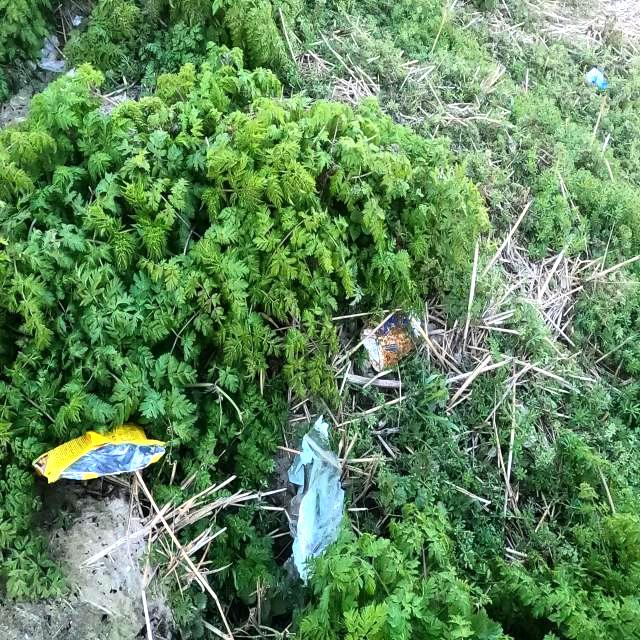Metal: (287, 412, 347, 586), (358, 304, 422, 372)
Plastic: (30, 420, 166, 486)
